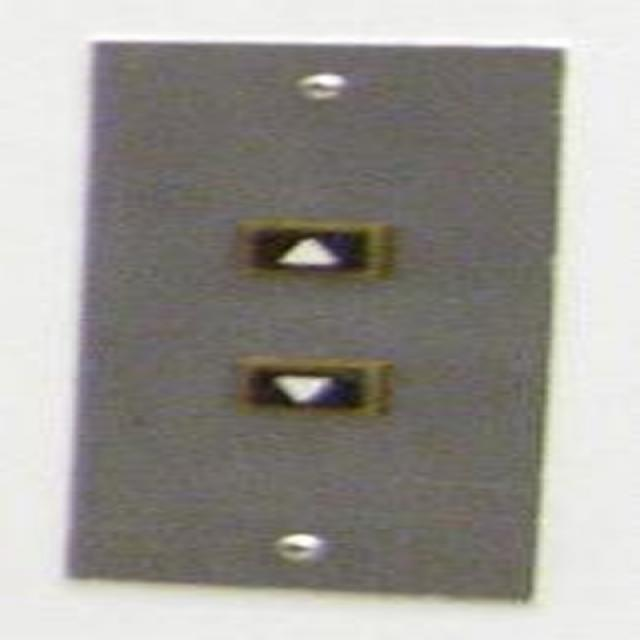down: (220, 352, 397, 423)
up: (224, 216, 391, 283)
